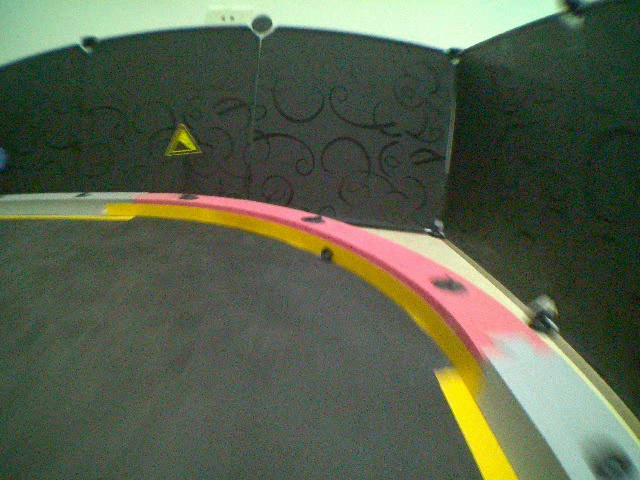fast: (163, 122, 203, 159)
